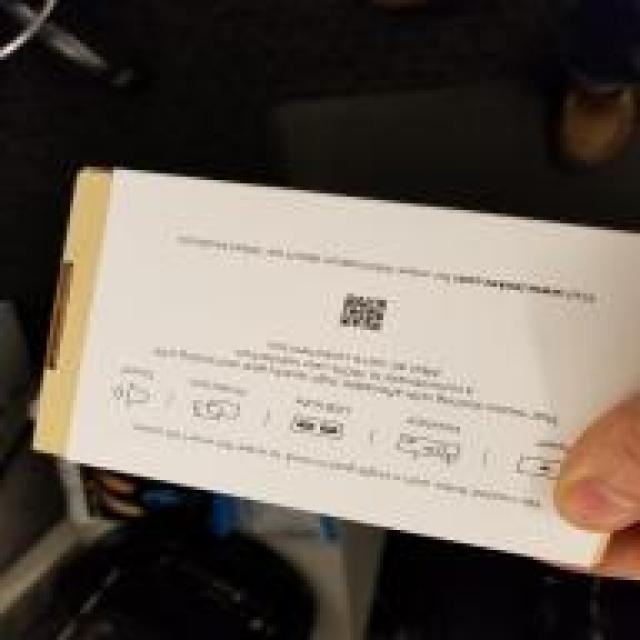qr_code: (340, 292, 388, 331)
